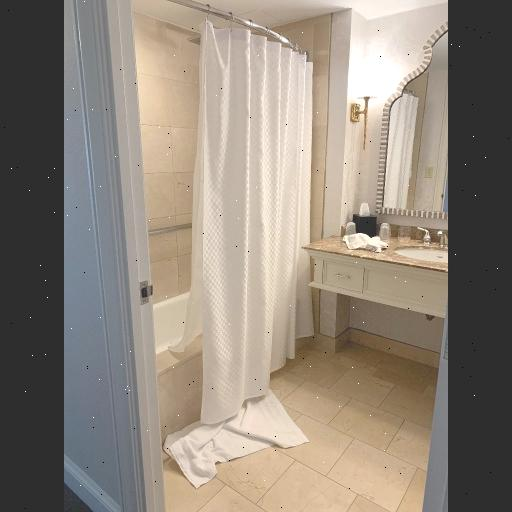disorganized_towel: (156, 382, 297, 488), (324, 231, 390, 254)
